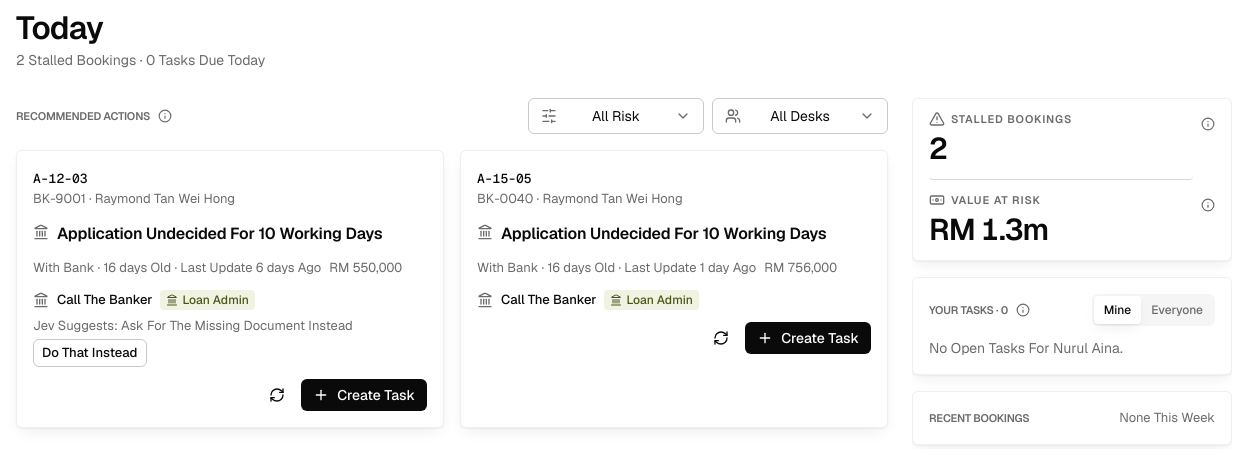
it: ChasePage › shows the empty state when filters match nothing
The width and height of the screenshot is (1249, 464).
Step 1. Click the dropdown named "Filter by risk" → (616, 116), box left=528, top=98, right=704, bottom=134
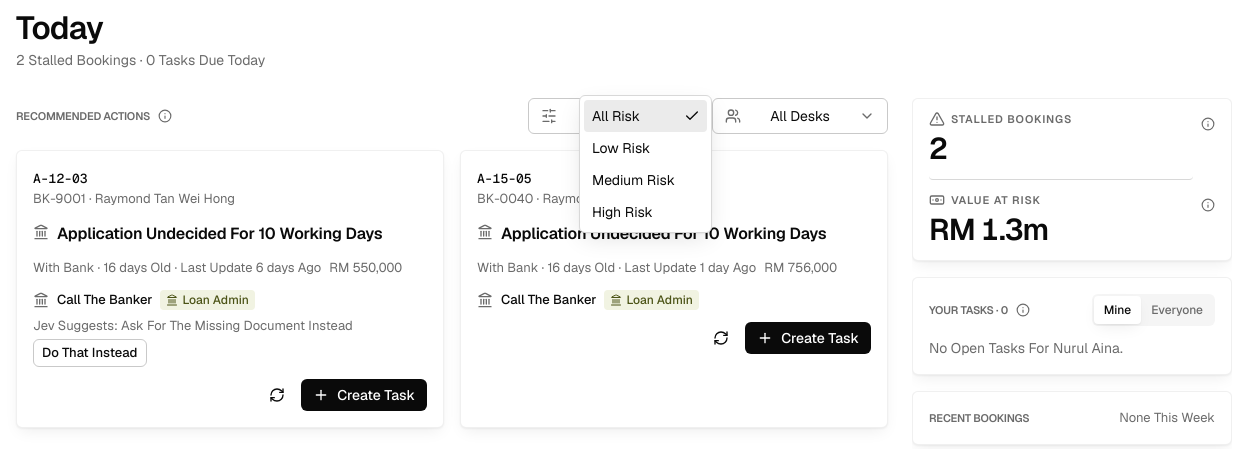
Step 2. Click the option "High Risk" → (622, 212), box left=592, top=203, right=653, bottom=221
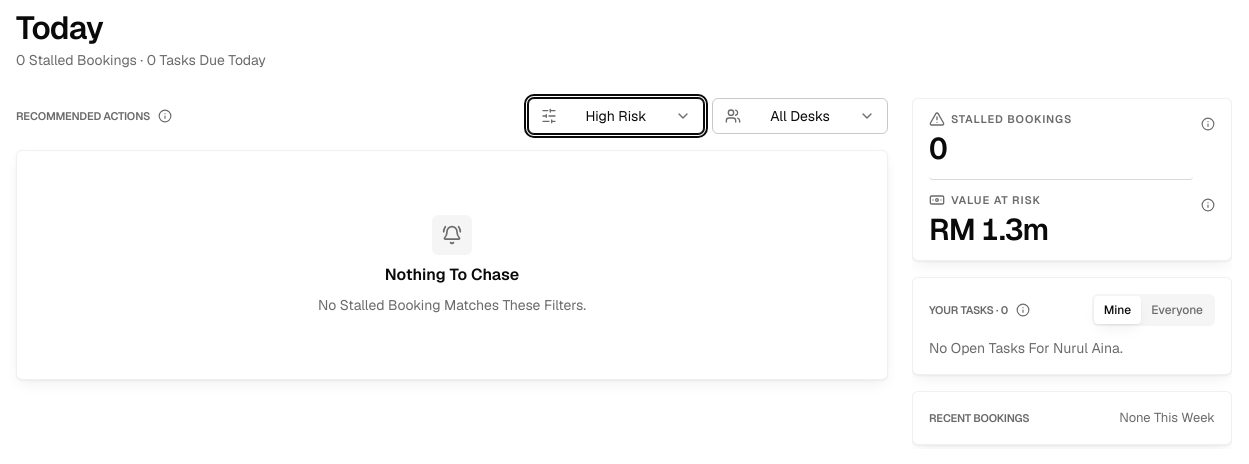
Now the text "Nothing To Chase" is shown, box left=385, top=263, right=519, bottom=287
Now the text "No Stalled Booking Matches These Filters." is shown, box left=318, top=295, right=586, bottom=315
